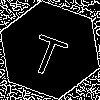T: (25, 25, 73, 79)
